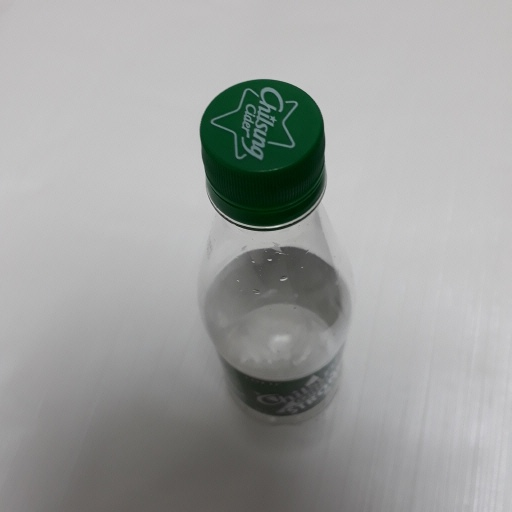Plastic_0: (195, 79, 350, 426)
